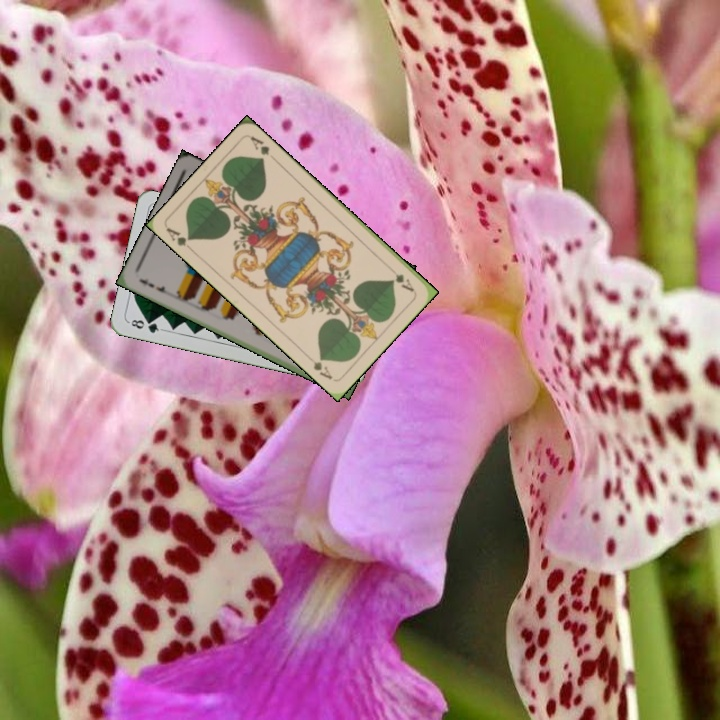E7: (134, 274, 173, 298)
G8: (125, 315, 165, 336)
GA: (162, 223, 197, 255), (391, 270, 417, 294)
